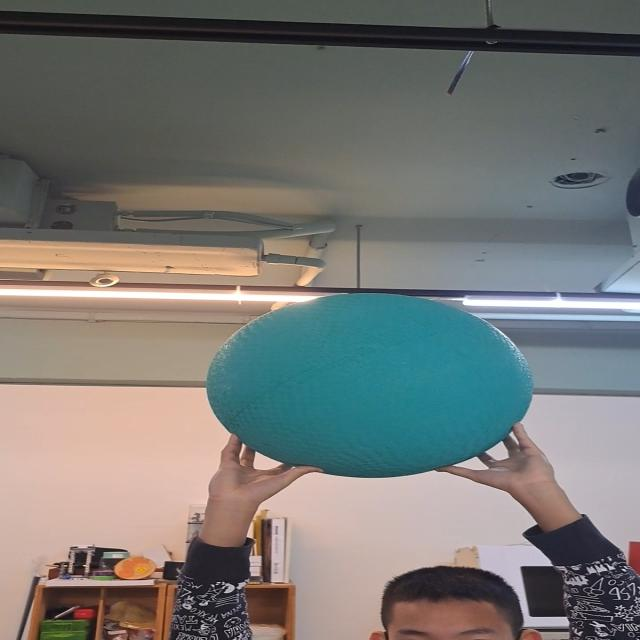ALGAE: (207, 292, 535, 480)
